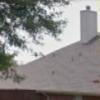chimneys: (80, 5, 98, 44)
